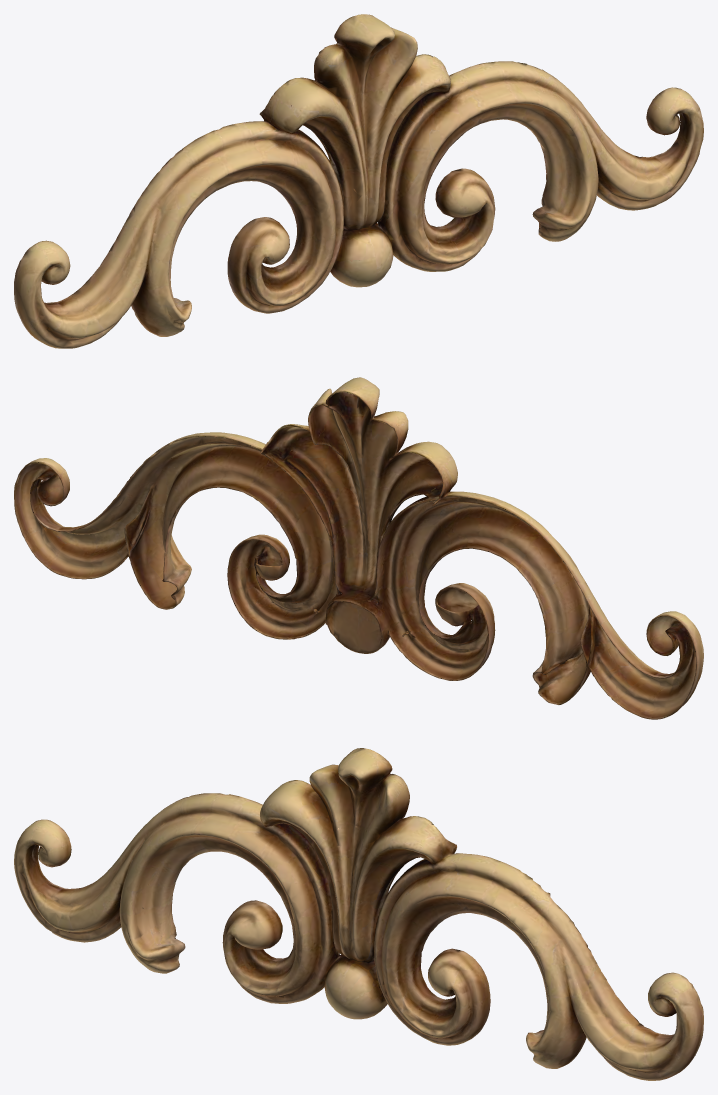
3 renders of one model, top to bottom at view 1: azimuth 30°, elevation 25°; view 2: azimuth 150°, elevation 25°; view 3: azimuth 330°, elevation 25°, orthographic.
Size of the model in its own units: 1.9 by 0.7175 by 0.1568.
1 material, 1 textured.
